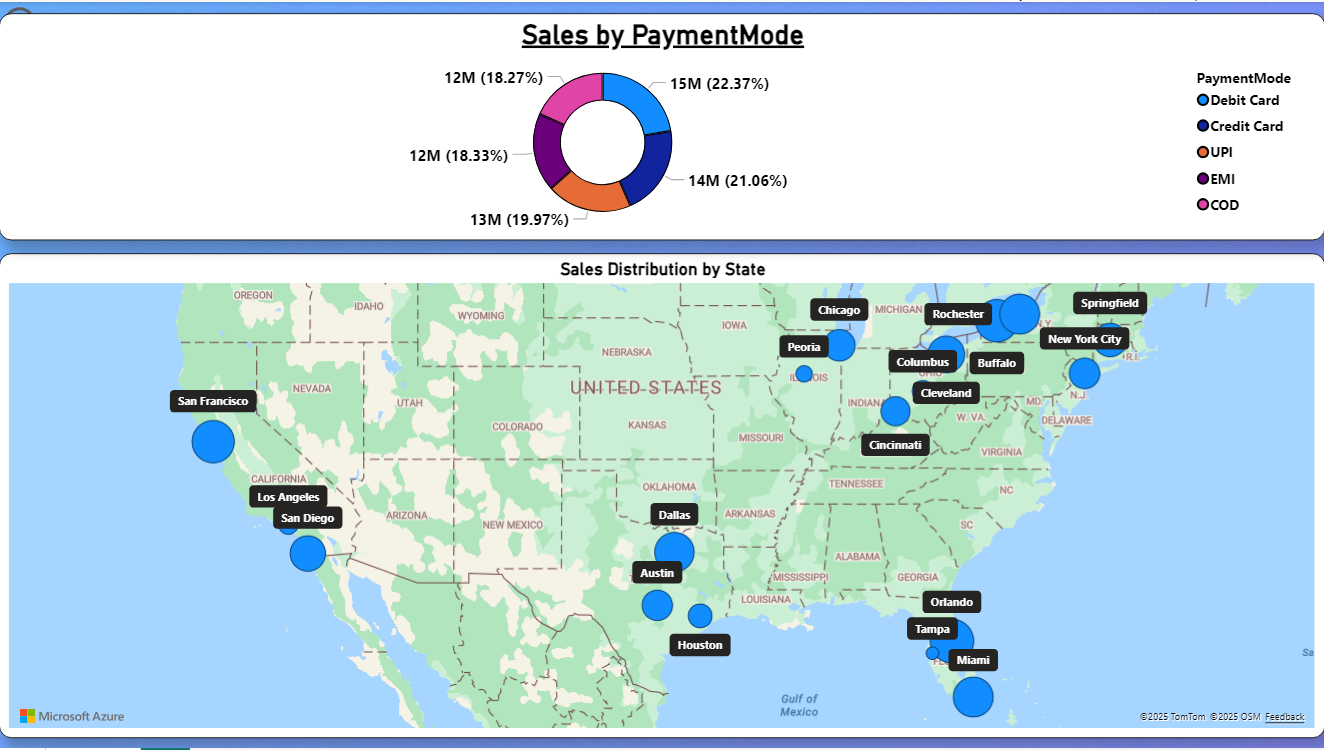

Layout of this report page (visuals, bound fields, positions):
{"tool":"powerbi","page":{"name":"Data 2","canvas":[1280,720],"ordinal":1},"visuals":[{"type":"azureMap","title":"Sales Distribution by State","fields":{"Size":["Sum(Sales Dataset.Sales)"],"Category":["Sales Dataset.City"]},"box":[0,242.5,1280,468.1],"z":0},{"type":"actionButton","box":[0,0,100,40],"z":1000},{"type":"pieChart","title":"Sales by PaymentMode","fields":{"Category":["Sales Dataset.PaymentMode"],"Y":["Sum(Sales Dataset.Sales)"]},"box":[0,10.9,1280,219.6],"z":2000}]}

Visuals, with their boxes in screenshot pixels (x1, y1, x2, y2), scaled from the page's 1280x720 canvas onto the 1324x750 screenshot:
"Sales Distribution by State" azureMap: [0,253,1323,740]
actionButton: [0,0,103,42]
"Sales by PaymentMode" pieChart: [0,11,1323,240]
